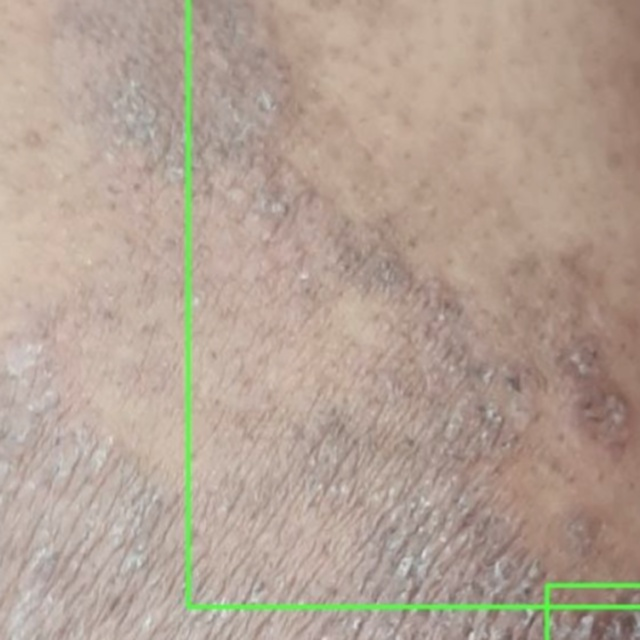Tinea Corporis: (0, 0, 639, 639), (188, 0, 639, 606)
